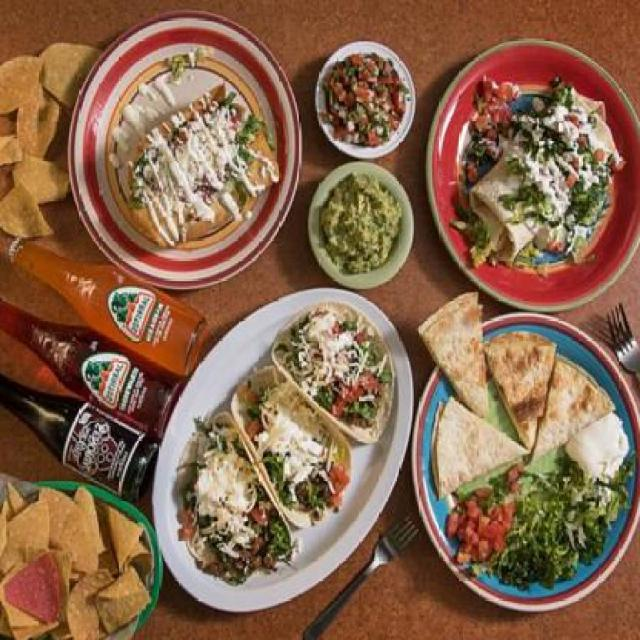breakfast burrito: (453, 74, 633, 274)
chicken quesadilla: (410, 288, 622, 500)
guacamole: (316, 160, 404, 280)
nachos: (1, 475, 153, 639), (1, 33, 108, 244)
tacos: (167, 294, 402, 589)
